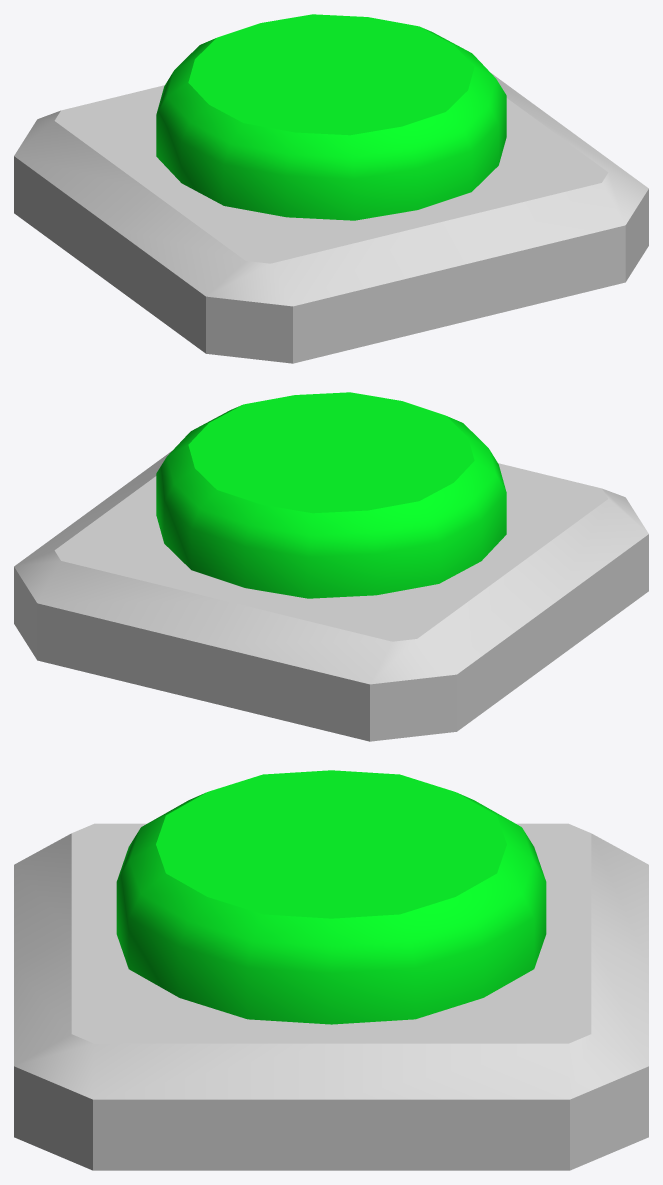
File: LED_3_Green.fbx
3 renders of one model, top to bottom at view 1: azimuth 30°, elevation 25°; view 2: azimuth 150°, elevation 25°; view 3: azimuth 270°, elevation 25°, orthographic. The views are drawn at different scales.
Parts seen in each view (by area): view 1: LED_3_Green; view 2: LED_3_Green; view 3: LED_3_Green.
Part boxes in pixels (x1=…): LED_3_Green: x1=14, y1=14, x2=648, y2=363; LED_3_Green: x1=14, y1=392, x2=648, y2=741; LED_3_Green: x1=14, y1=770, x2=648, y2=1170.
Size of the model in its own units: 29.08 by 9.7 by 29.08.
